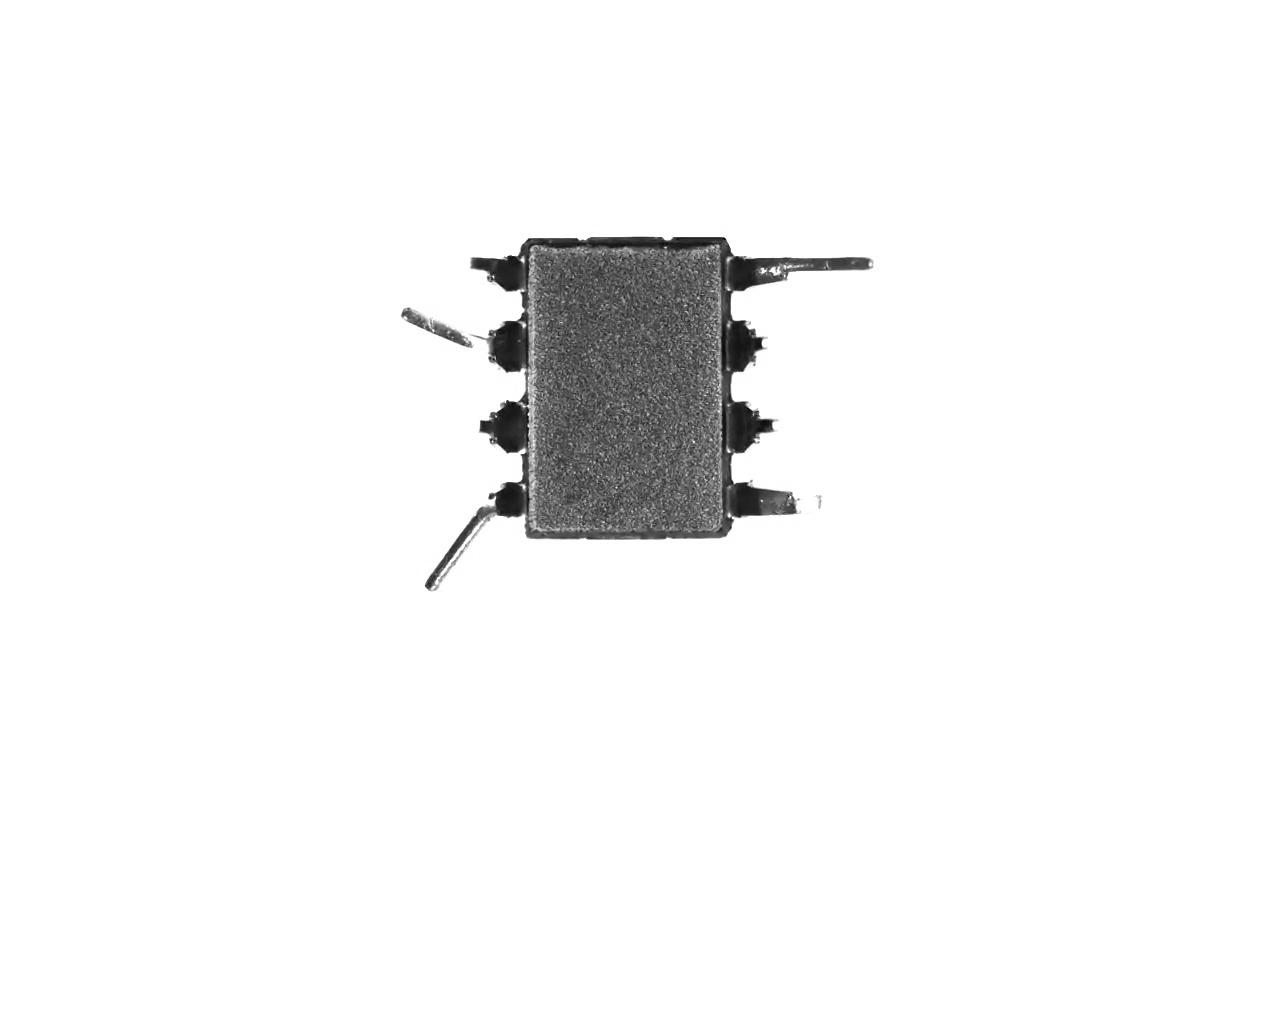Leg: (398, 283, 537, 370), (423, 486, 528, 591), (731, 475, 835, 532), (725, 249, 876, 287)
brokenLeg: (723, 397, 797, 457), (474, 382, 539, 450), (466, 240, 539, 292), (726, 320, 769, 373)
